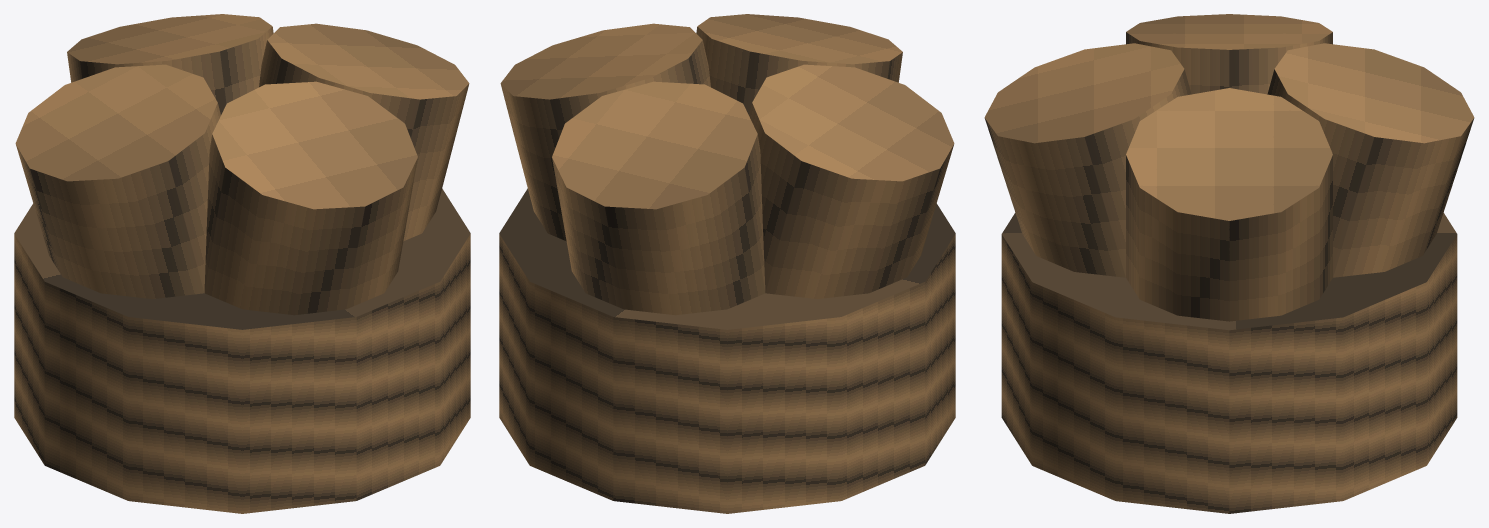
Rendered from rope-endcap-4ply.glb.
3 renders of one model, left to right at view 1: azimuth 30°, elevation 25°; view 2: azimuth 150°, elevation 25°; view 3: azimuth 270°, elevation 25°, orthographic.
Visible parts, largest first — view 1: Cylinder; view 2: Cylinder; view 3: Cylinder.
Boxes of the visible parts, x1,y1,x2,y2 form: Cylinder: (14,14,470,513); Cylinder: (499,14,955,513); Cylinder: (984,14,1474,513).
Bounding box in the file's own units: 1.18 × 0.929 × 1.18.
Materials: 1 (1 with a texture image).
